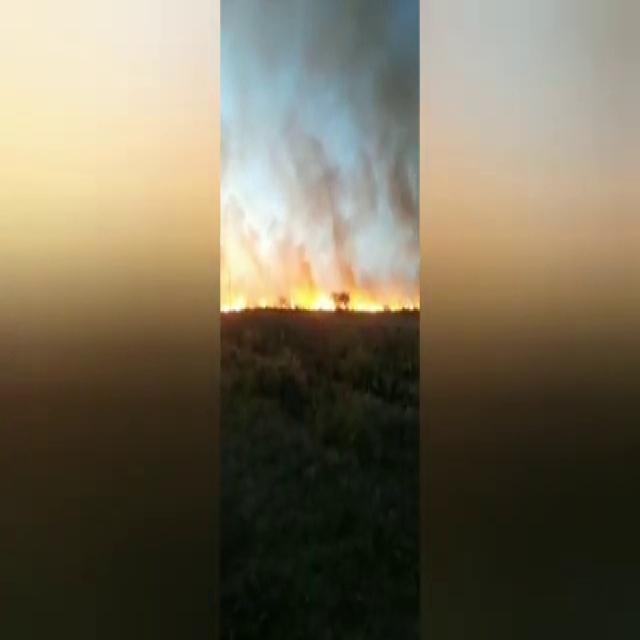Fire: (342, 289, 412, 315), (221, 286, 279, 316), (290, 284, 337, 314), (222, 289, 252, 315)
Smoke: (222, 0, 420, 284), (276, 88, 377, 276), (221, 196, 270, 282)
